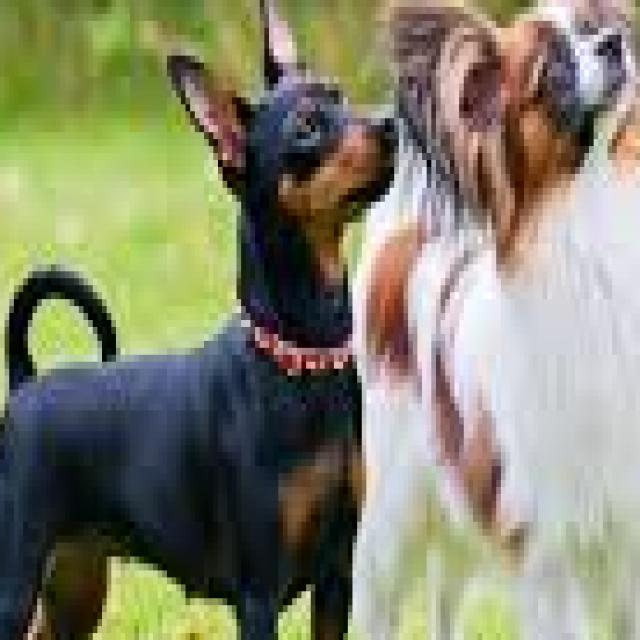dog: (0, 0, 399, 640), (334, 0, 640, 640)
